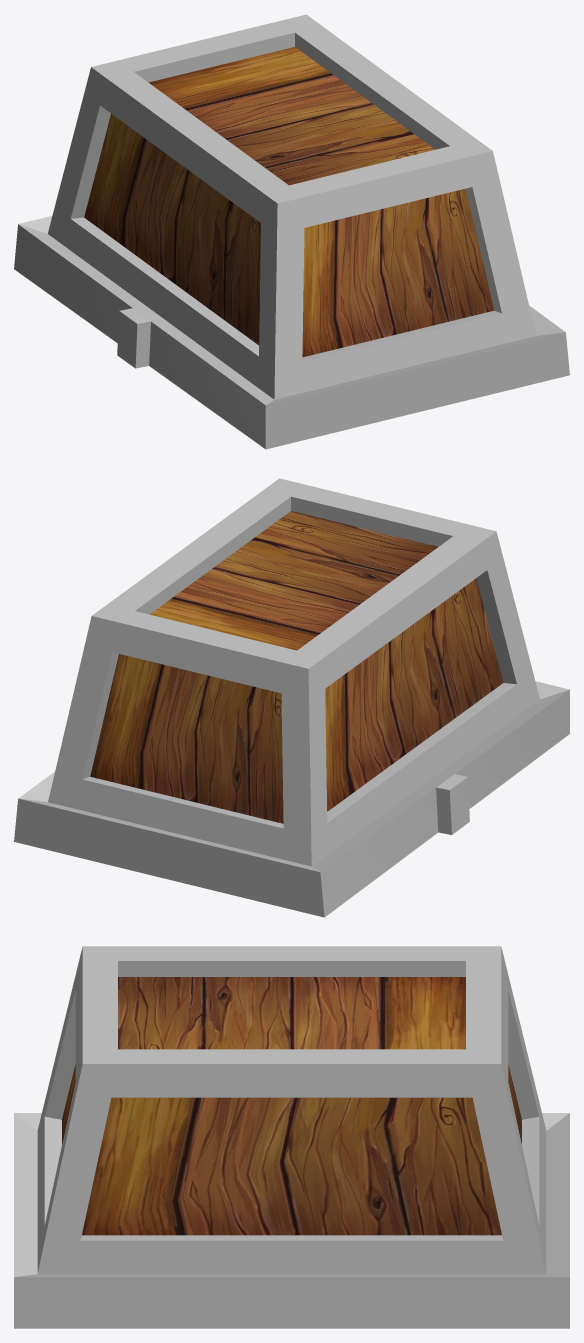
Rendered from chest_top.FBX.
3 renders of one model, top to bottom at view 1: azimuth 30°, elevation 25°; view 2: azimuth 150°, elevation 25°; view 3: azimuth 270°, elevation 25°, orthographic. The views are drawn at different scales.
Visible parts, largest first — view 1: chest_topp; view 2: chest_topp; view 3: chest_topp.
Boxes of the visible parts, x1,y1,x2,y2 form: chest_topp: (14,14,569,449); chest_topp: (14,478,569,917); chest_topp: (14,946,569,1328).
Size of the model in its own units: 23.55 by 15 by 31.59.
